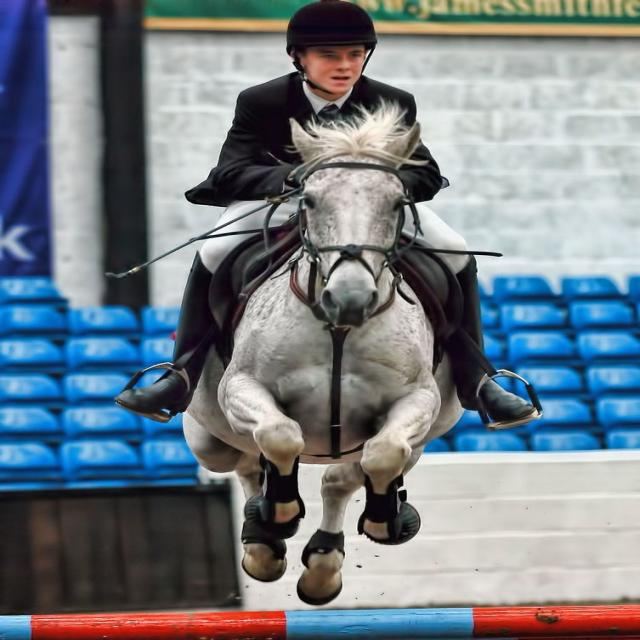Horse: (183, 95, 465, 605)
